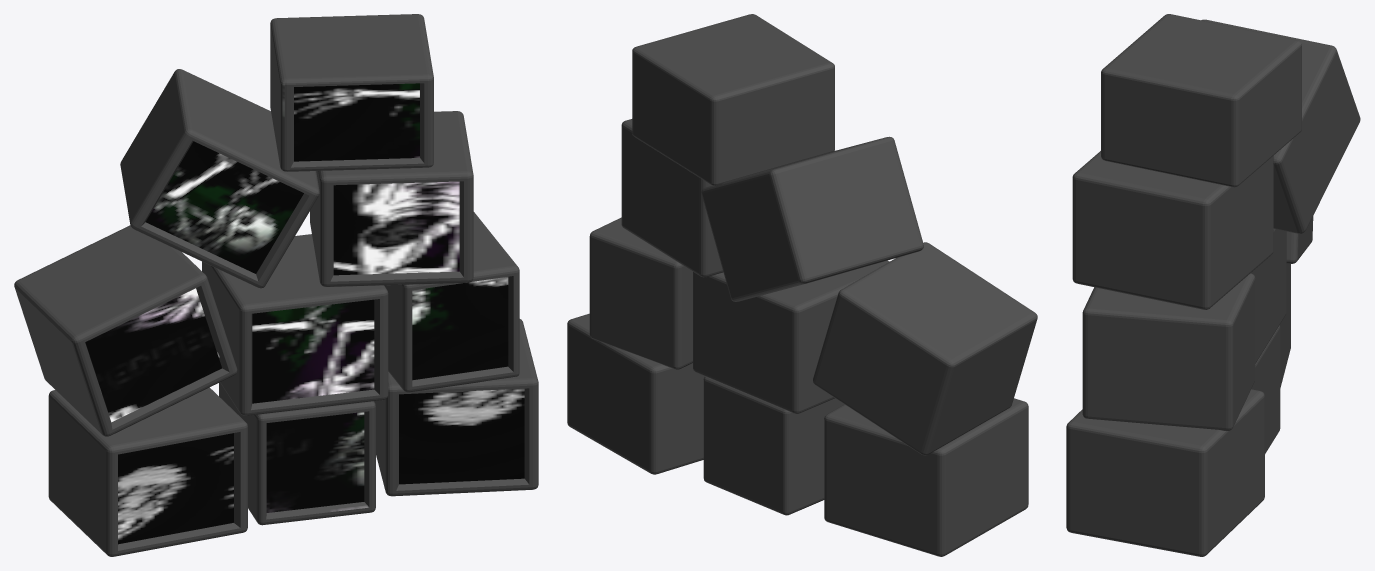
Rendered from monitors.glb.
The picture shows the model from 3 angles, left to right: view 1: azimuth 30°, elevation 25°; view 2: azimuth 150°, elevation 25°; view 3: azimuth 270°, elevation 25°; orthographic projection. The views are drawn at different scales.
Visible parts, largest first — view 1: Monitors_Baked; view 2: Monitors_Baked; view 3: Monitors_Baked.
Boxes of the visible parts, x1,y1,x2,y2 form: Monitors_Baked: (14,14,538,556); Monitors_Baked: (567,14,1037,556); Monitors_Baked: (1066,14,1360,556).
Bounding box in the file's own units: 1.38 × 1.2 × 0.7541.
Materials: 1 (1 with a texture image).
